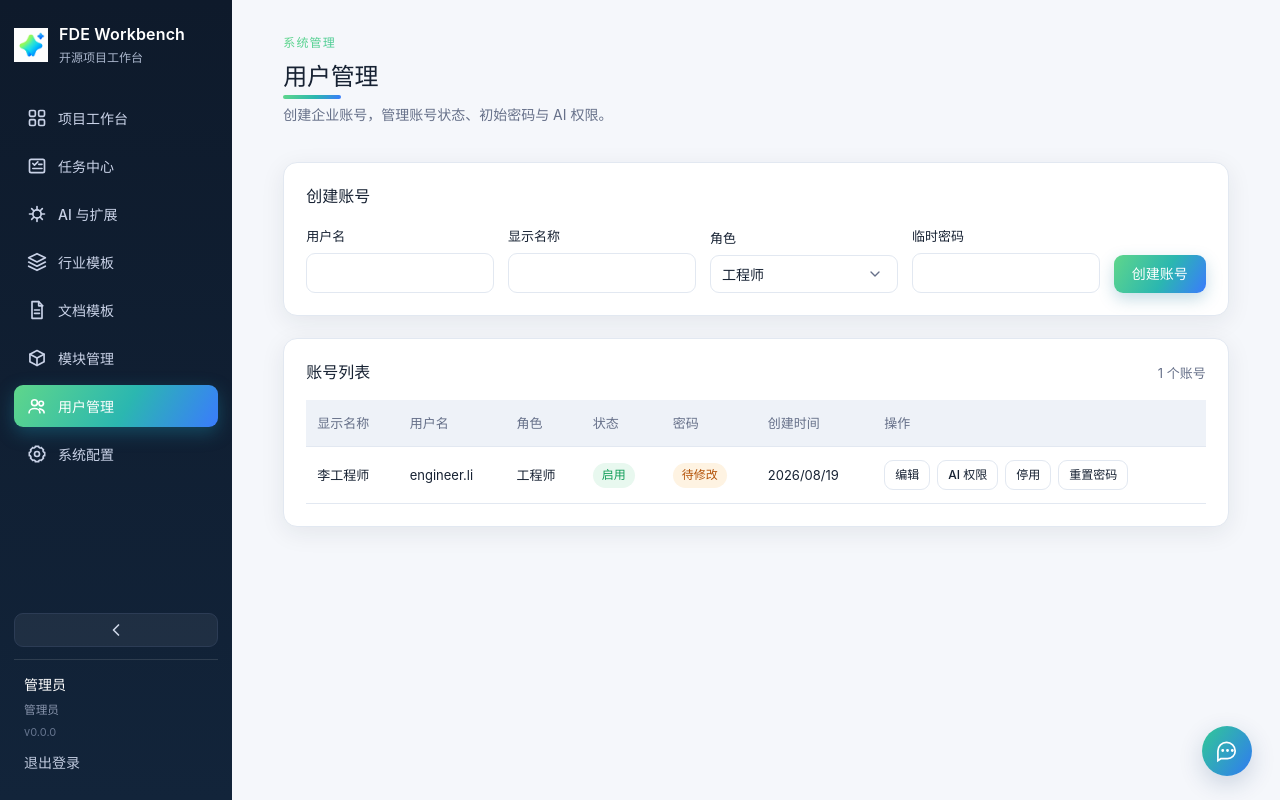
Test case: administrator user management › creates a user and clears the temporary password immediately
The image size is (1280, 800).
Expected: the heading "用户管理" is shown, x1=283 y1=62 x2=378 y2=91
Step 1. Type "engineer.new" into the field labelled "用户名" → (400, 273), box x1=306 y1=253 x2=494 y2=293
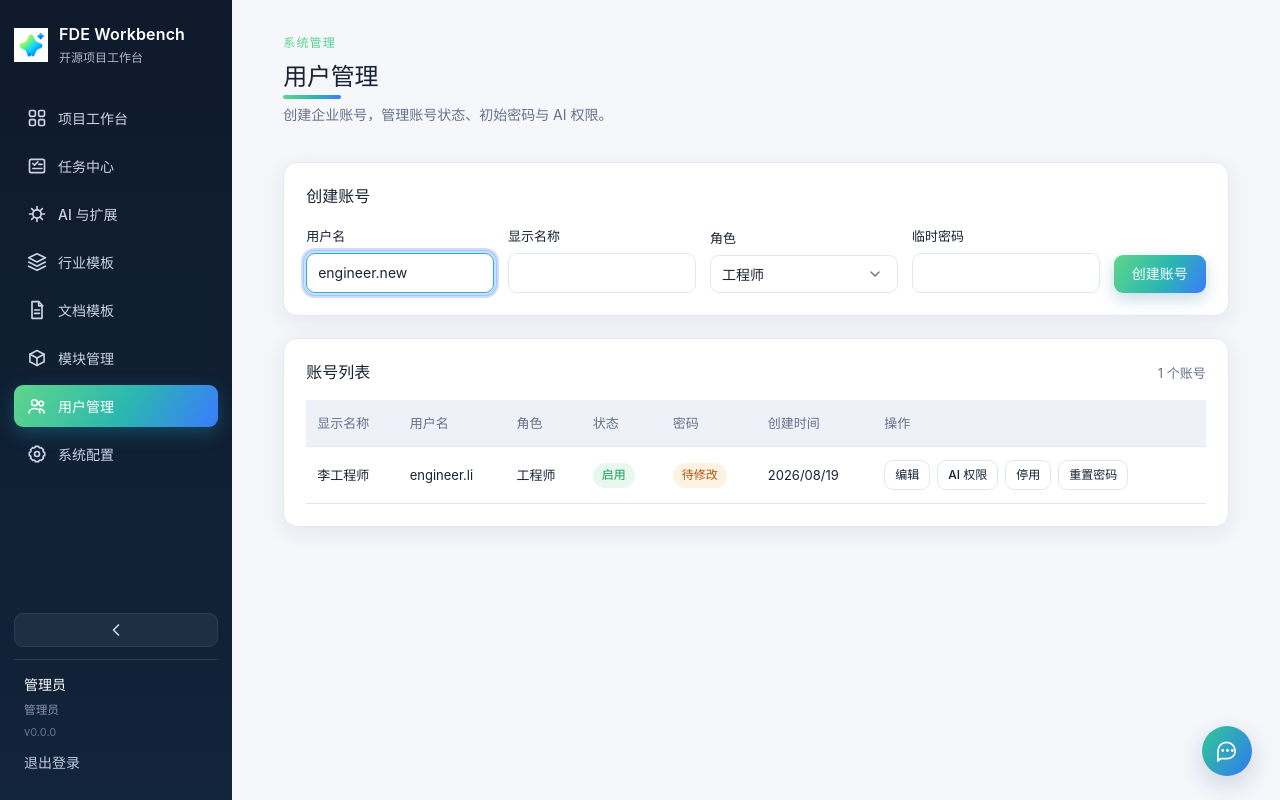
Step 2. Type "新工程师" into the field labelled "显示名称" → (602, 273), box x1=508 y1=253 x2=696 y2=293
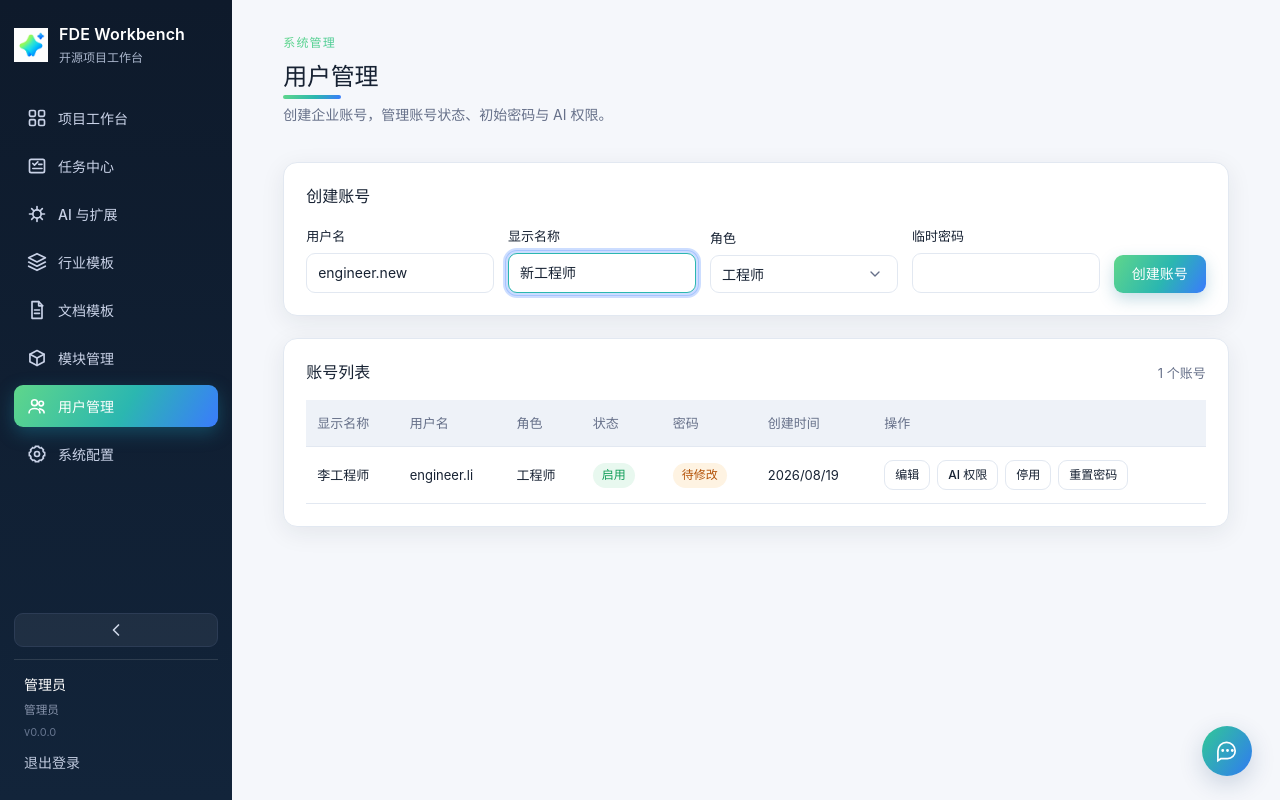
Step 3. Select "工程师" in the dropdown labelled "角色" → (804, 274), box x1=710 y1=255 x2=898 y2=293
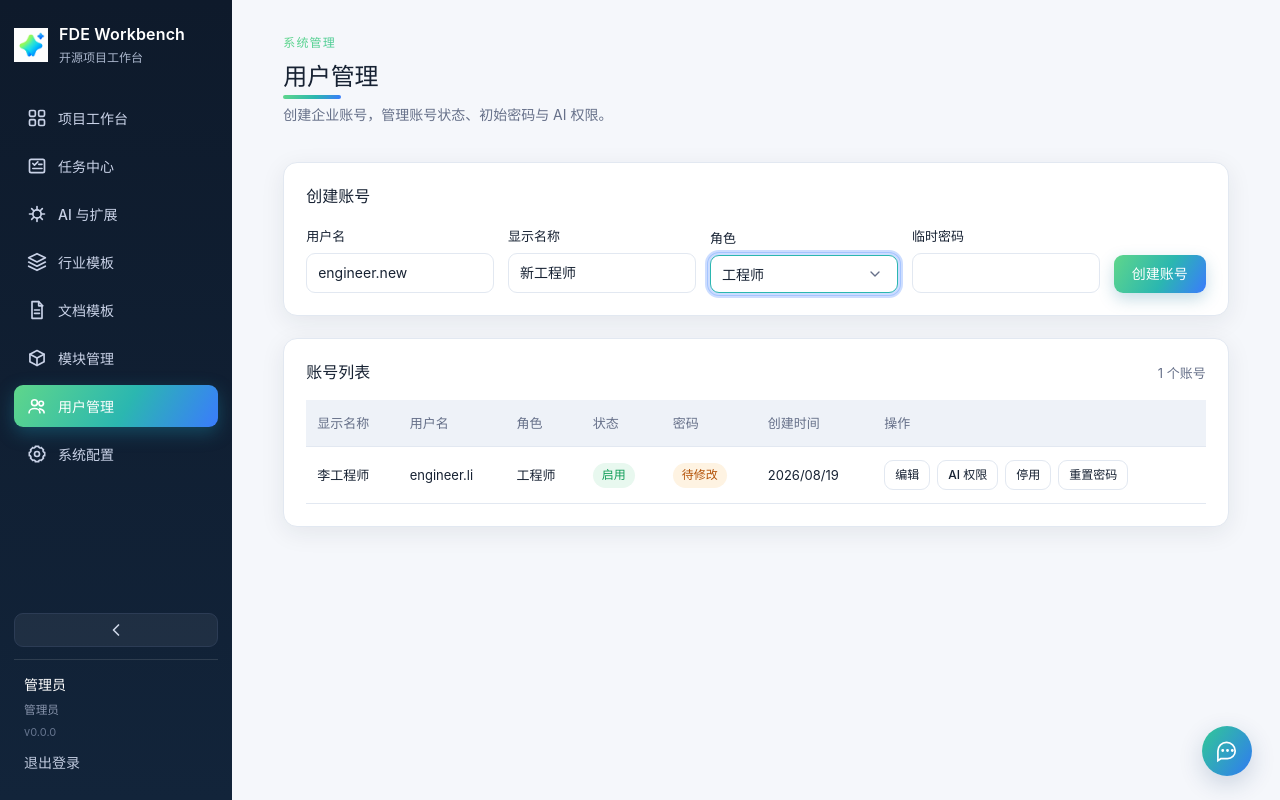
Step 4. Type "TempPass!2345" into the password field labelled "临时密码" → (1006, 273), box x1=912 y1=253 x2=1100 y2=293
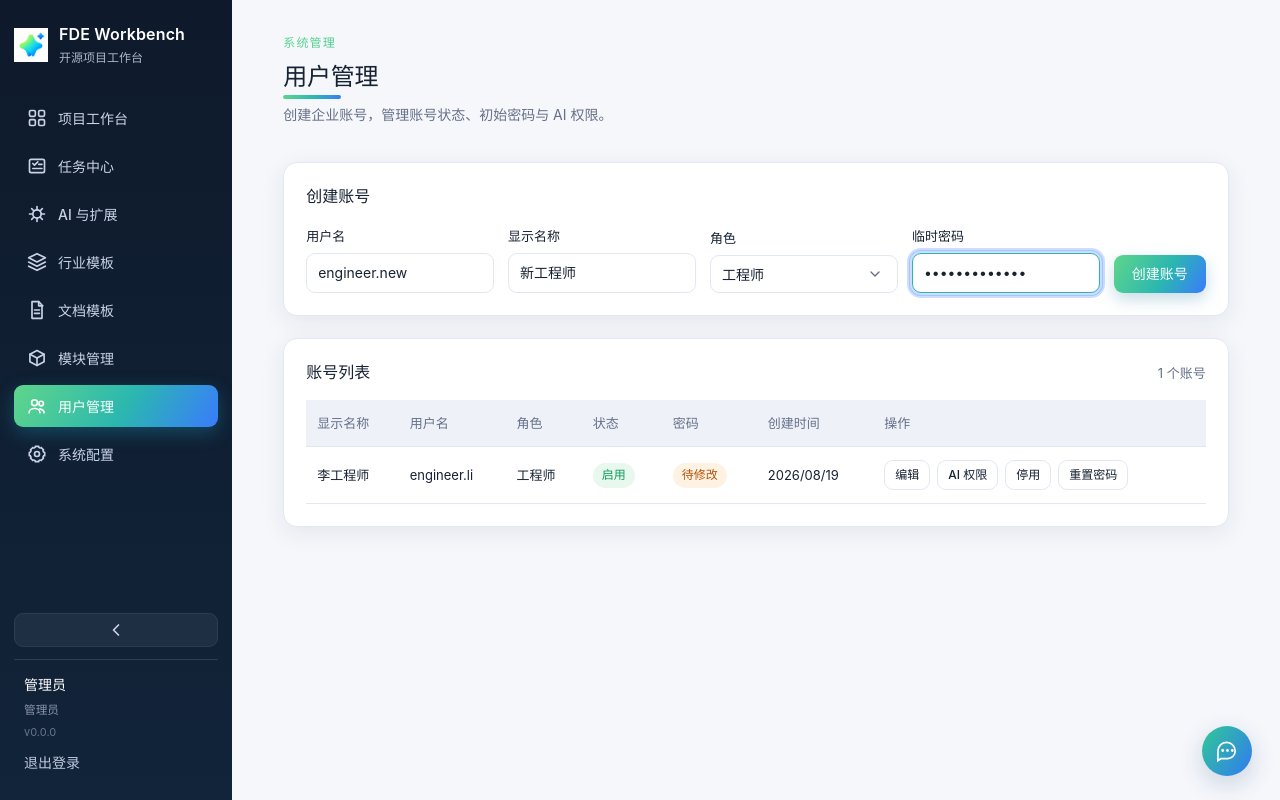
Step 5. Click the button "创建账号" → (1160, 274), box x1=1114 y1=255 x2=1206 y2=293
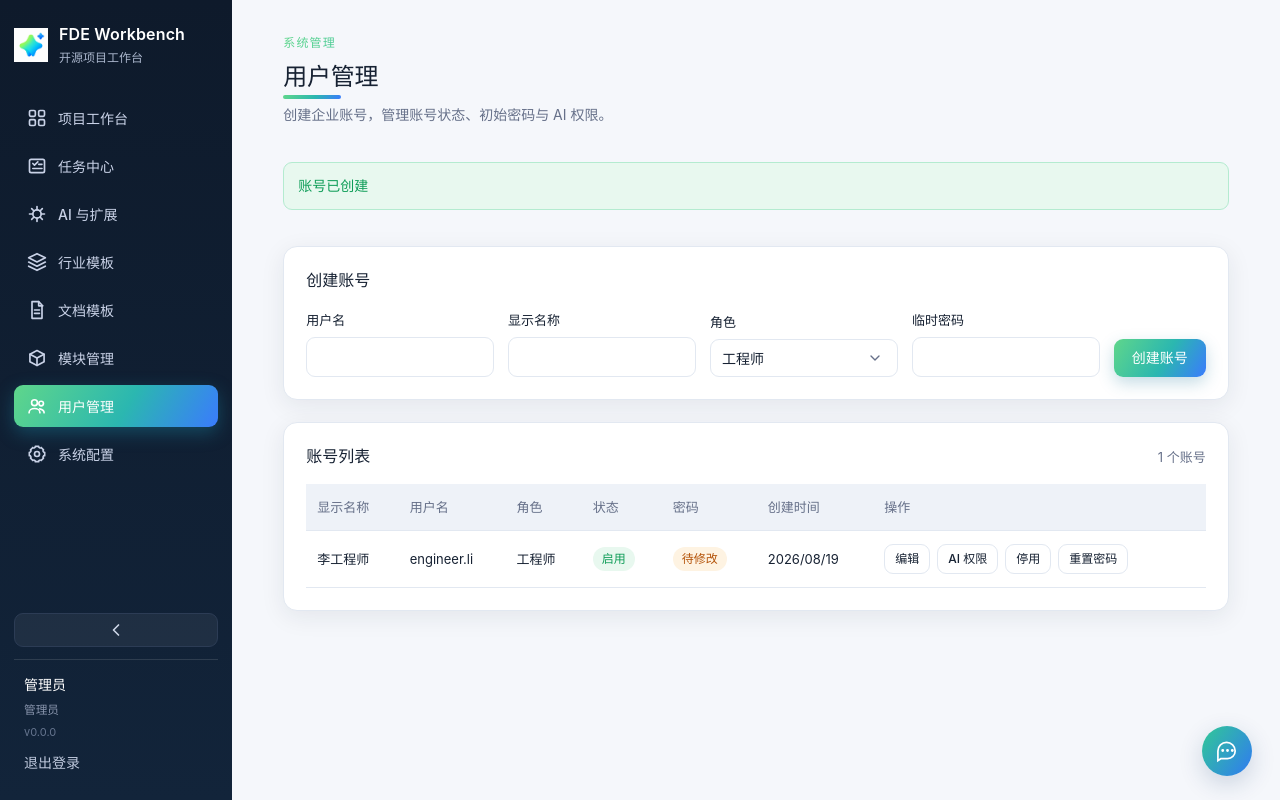
Expected: the password field labelled "临时密码" is empty, x1=912 y1=337 x2=1100 y2=377
Expected: the text "账号已创建" is shown, x1=283 y1=162 x2=1229 y2=210
